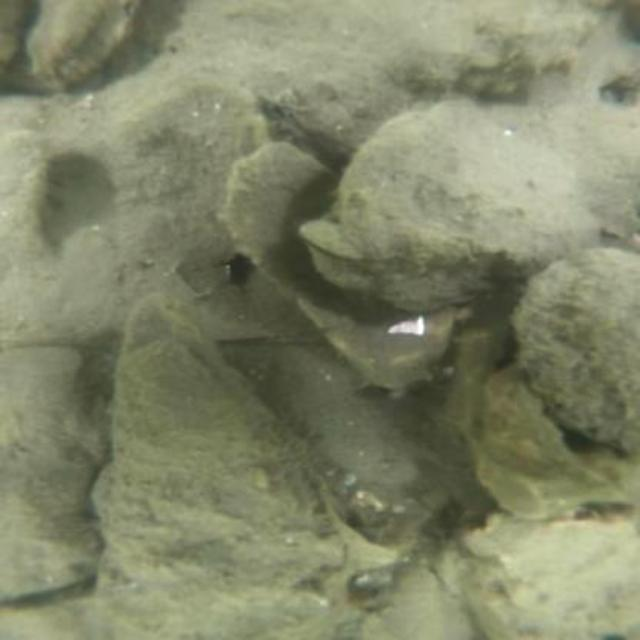Oyster-Closed: (97, 310, 340, 637), (305, 102, 602, 307), (130, 2, 591, 132), (222, 142, 459, 390), (465, 333, 632, 513), (0, 339, 98, 600), (520, 242, 639, 441), (461, 522, 638, 640), (25, 0, 136, 91), (362, 563, 475, 640), (0, 130, 54, 264)
